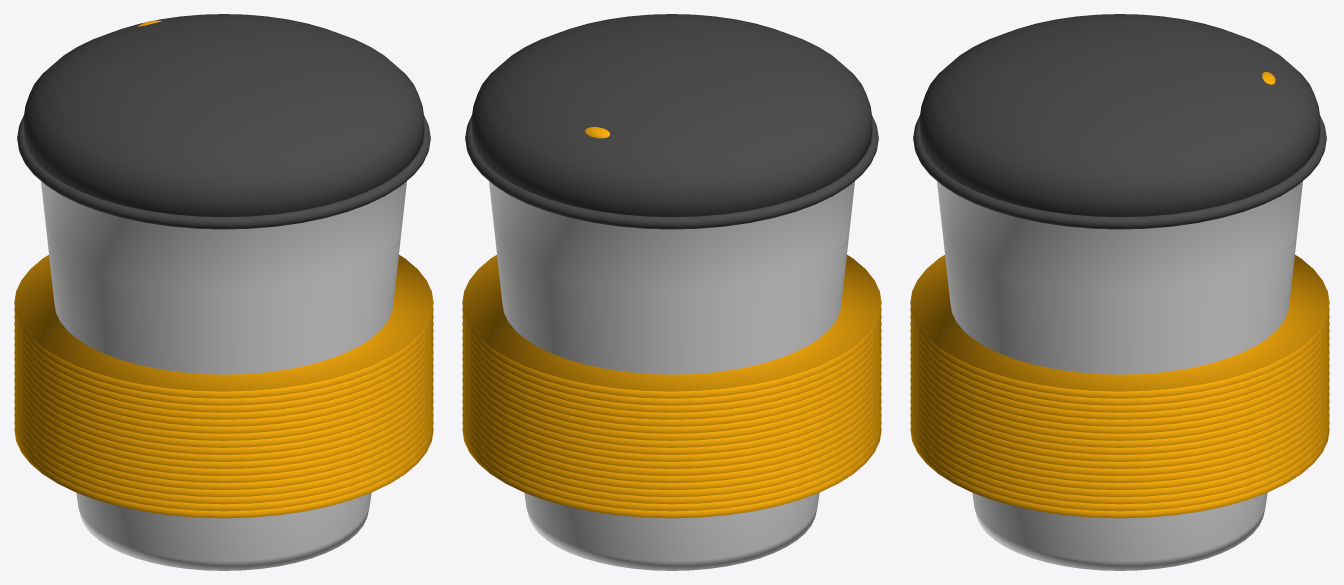
File: coffee_cup.glb
The picture shows the model from 3 angles, left to right: view 1: azimuth 30°, elevation 25°; view 2: azimuth 150°, elevation 25°; view 3: azimuth 270°, elevation 25°; orthographic projection.
Visible parts, largest first — view 1: CupSleeve, CupLid, CupBody, LidGrip; view 2: CupSleeve, CupLid, CupBody, LidGrip; view 3: CupSleeve, CupLid, CupBody, LidGrip.
Part boxes in pixels (<box>): CupSleeve: <box>14,255,433,518</box>; CupLid: <box>23,14,424,216</box>; CupBody: <box>41,181,406,570</box>; LidGrip: <box>17,115,430,229</box>; CupSleeve: <box>462,255,881,518</box>; CupLid: <box>471,14,872,216</box>; CupBody: <box>489,181,854,570</box>; LidGrip: <box>465,115,878,229</box>; CupSleeve: <box>910,255,1329,518</box>; CupLid: <box>919,14,1320,216</box>; CupBody: <box>937,181,1302,570</box>; LidGrip: <box>913,115,1326,229</box>.
Size of the model in its own units: 1.8 by 2.14 by 1.8.
